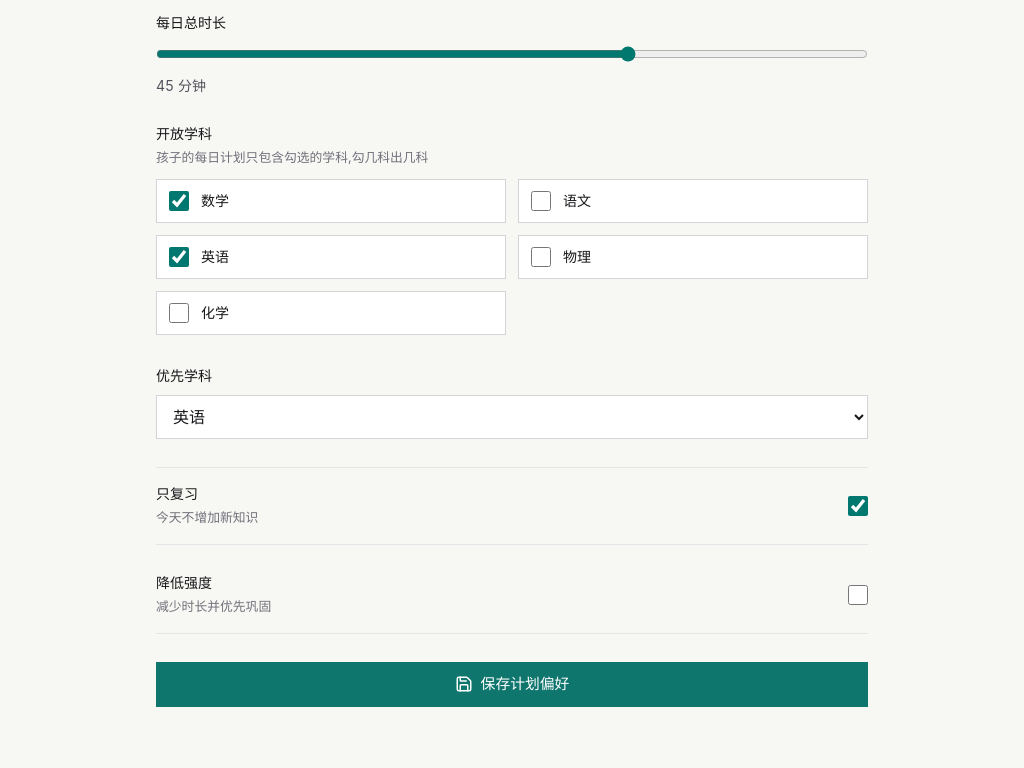
Test: saves the checked subject codes and blocks an empty selection
The width and height of the screenshot is (1024, 768).
(page scrolled)
Submit the form
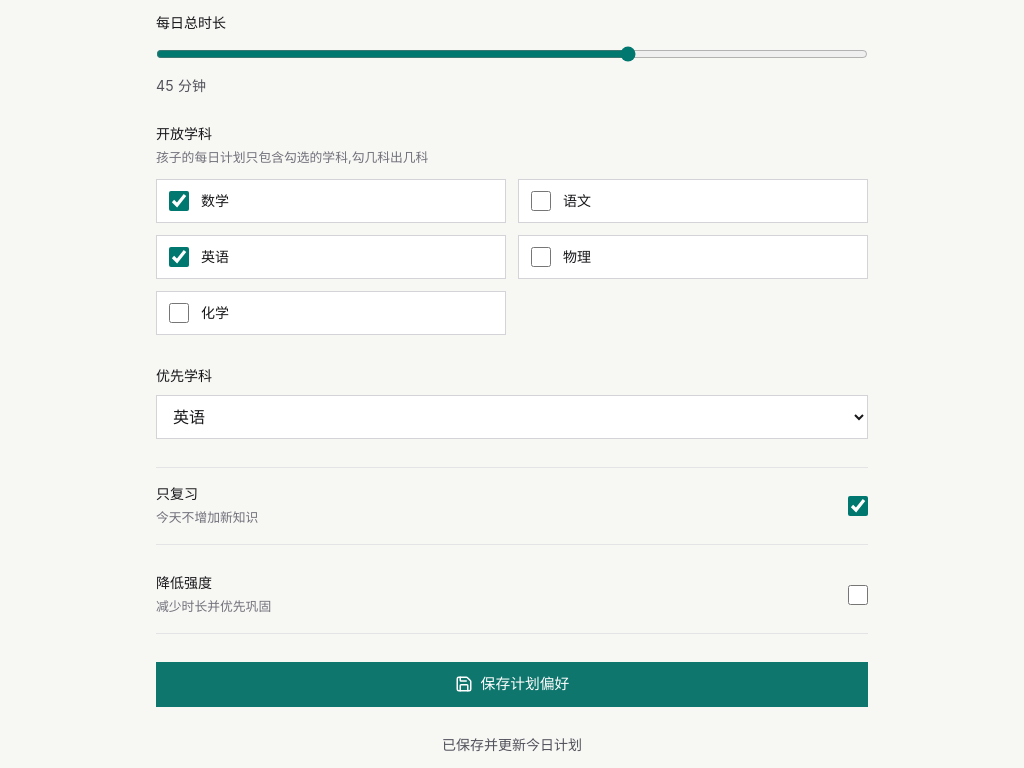
Expected: the text "已保存并更新今日计划" is shown, [442,736,582,753]
Click the checkbox labelled "数学". click: (179, 201)
box: [169,191,189,211]
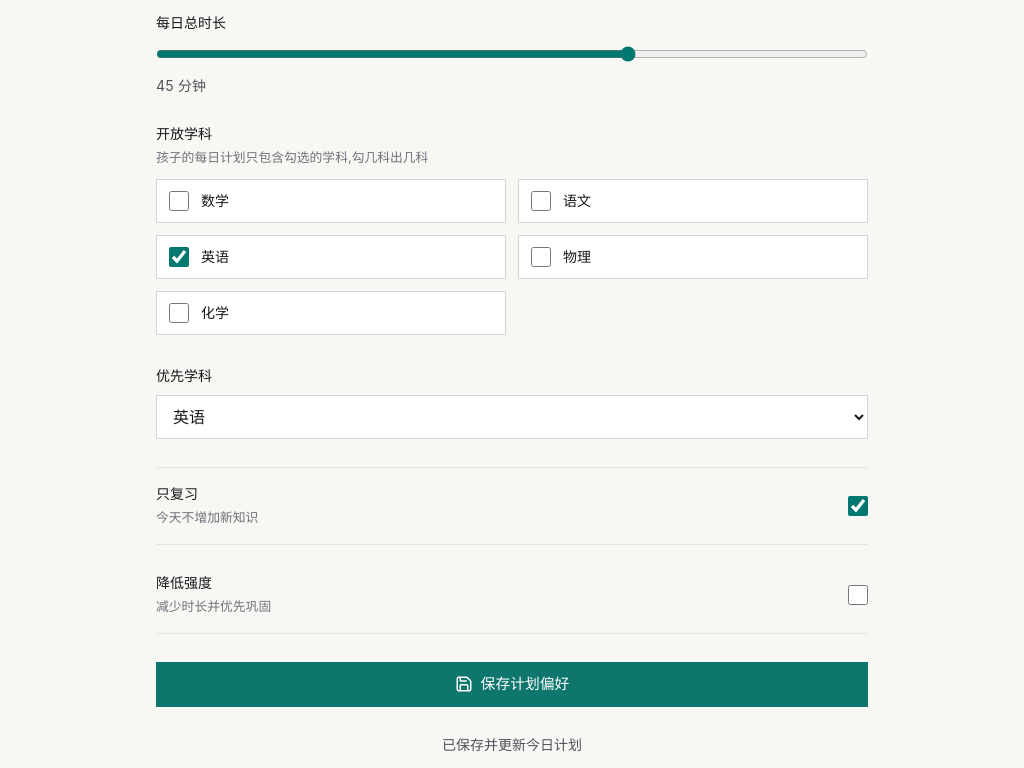
Click the checkbox labelled "英语". click: (179, 257)
box: [169,247,189,267]
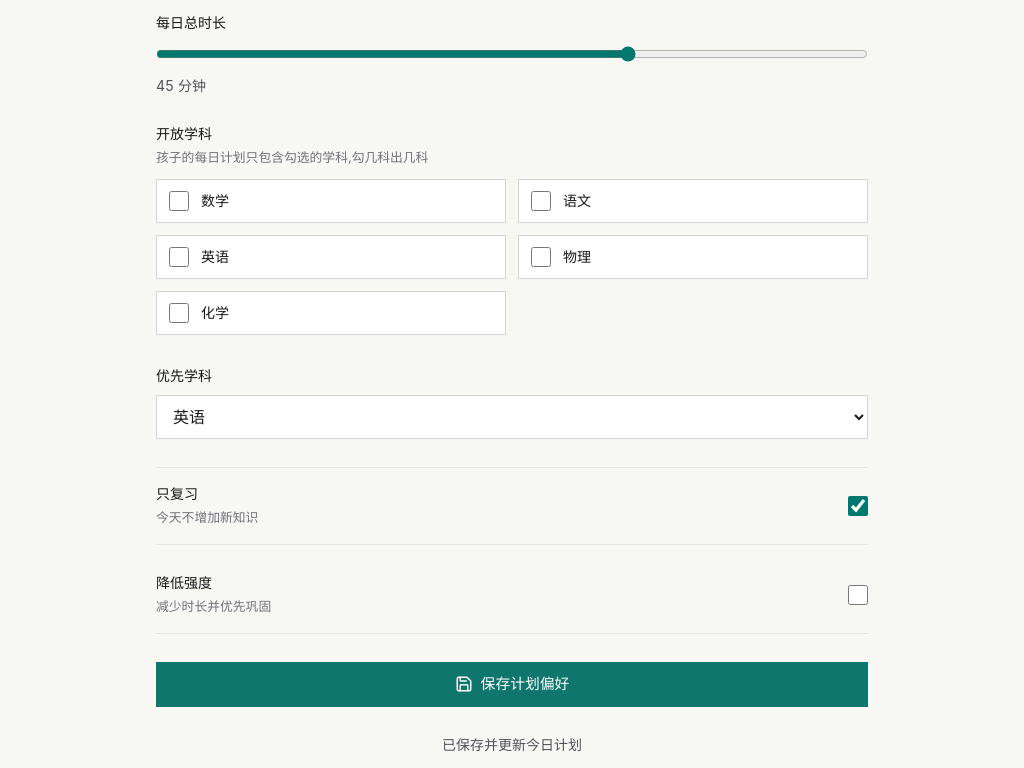
Click the checkbox labelled "只复习 今天不增加新知识". click: (858, 506)
box: [848,496,868,516]
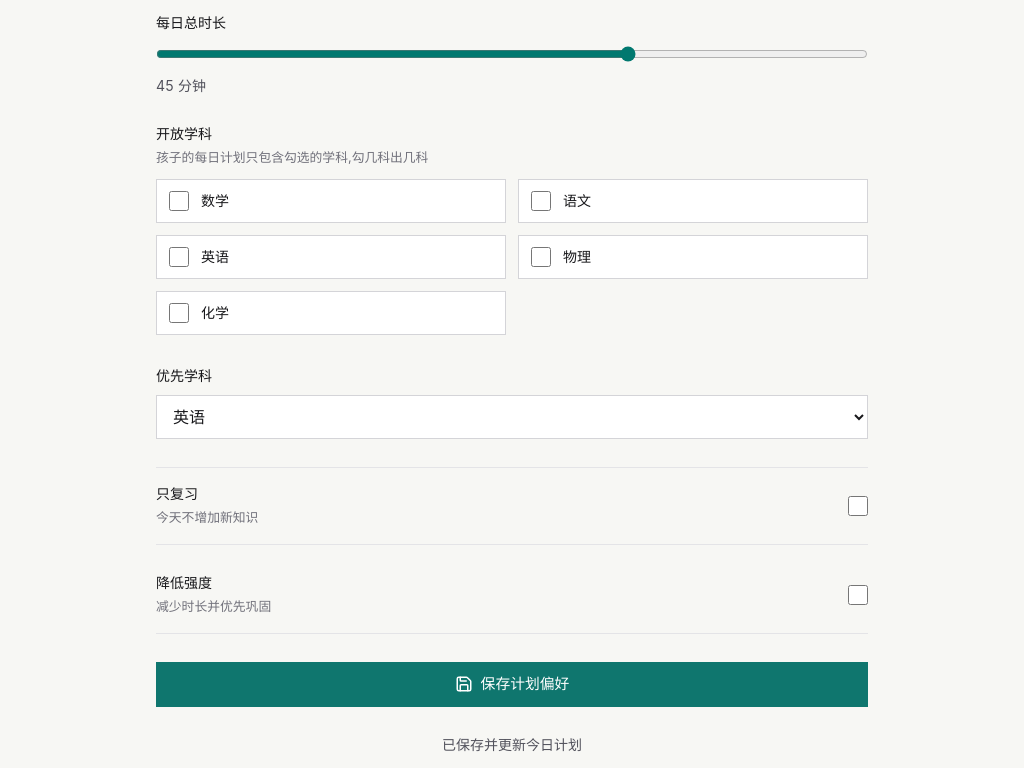
Submit the form
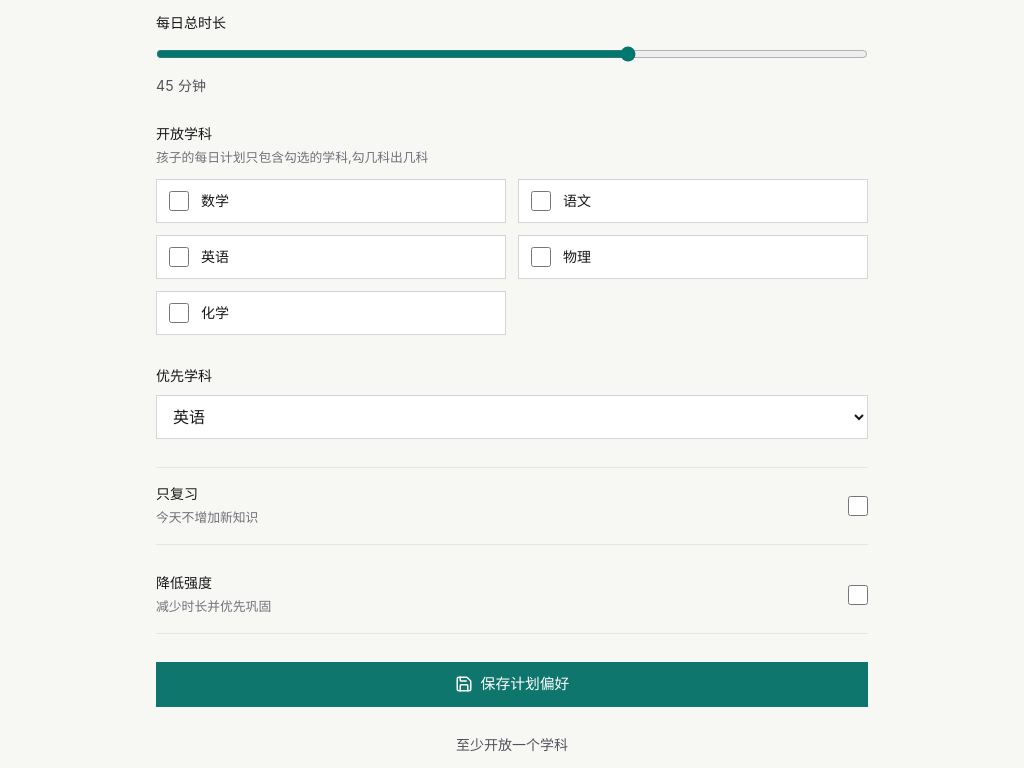
Expected: the text "至少开放一个学科" is shown, [456,736,568,753]
